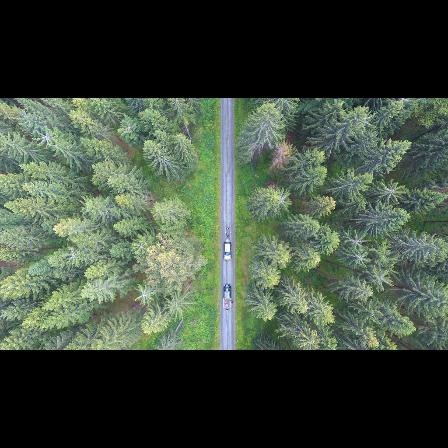Sick: (379, 176, 407, 203), (347, 246, 372, 271), (344, 229, 370, 253), (132, 280, 156, 306), (62, 244, 85, 266), (34, 126, 57, 148), (273, 188, 293, 210)
